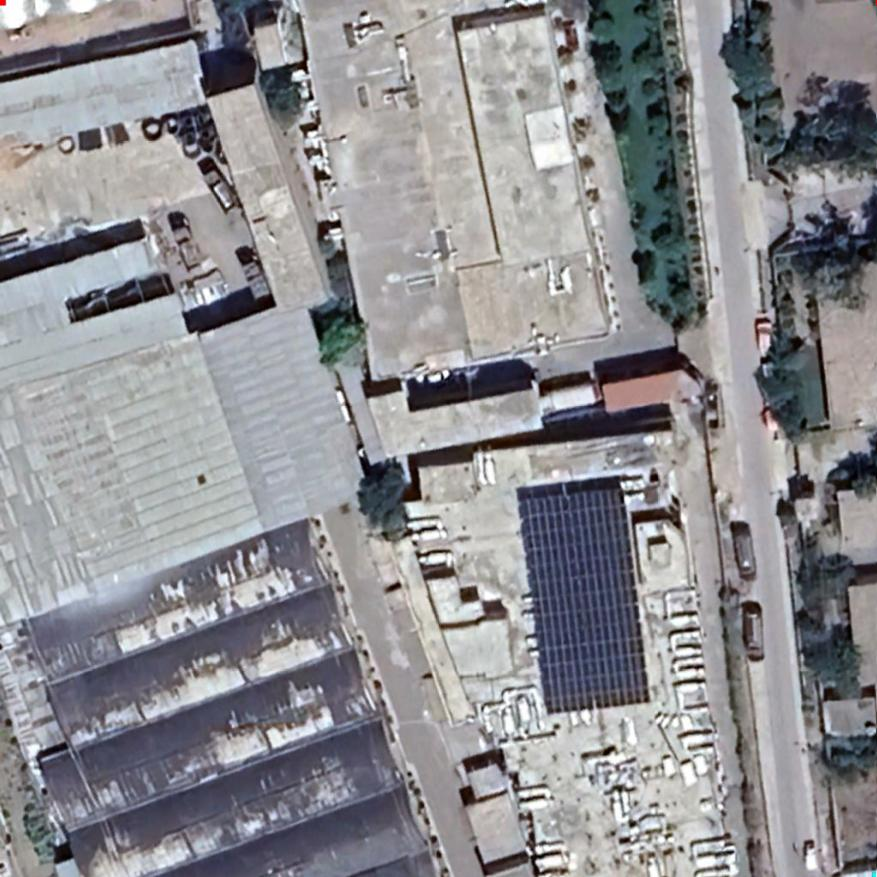Solarpanel: (510, 482, 660, 720)
